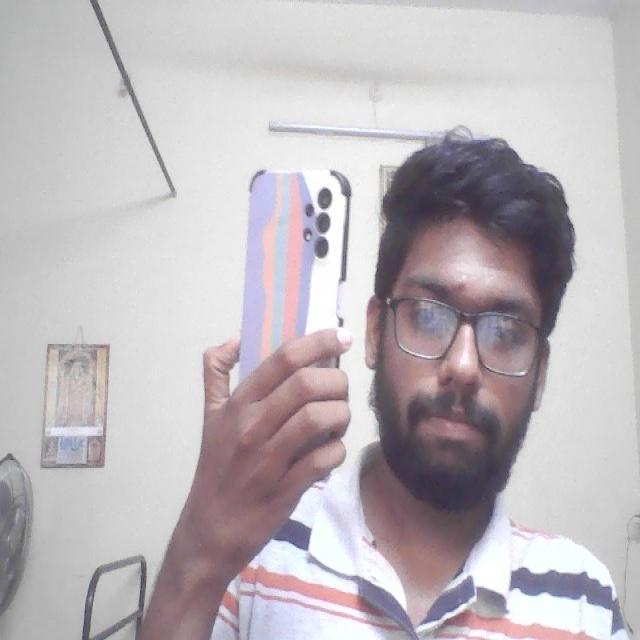Mobile: (236, 168, 354, 346)
